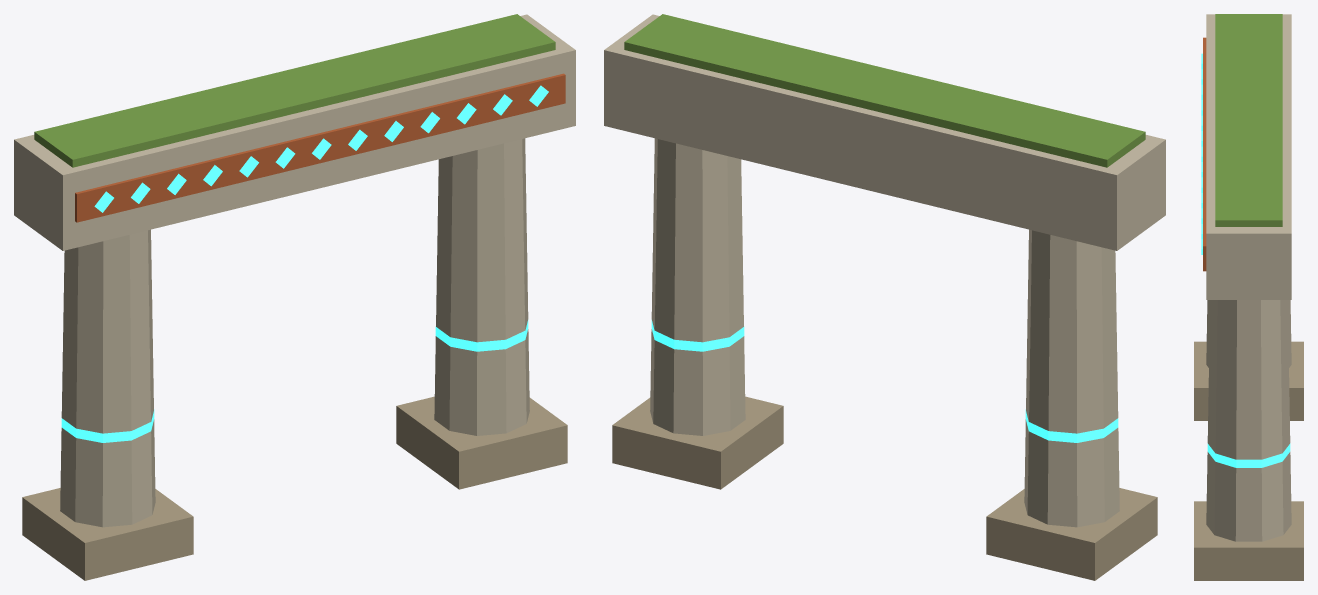
The model's file is gate.glb.
The picture shows the model from 3 angles, left to right: view 1: azimuth 30°, elevation 25°; view 2: azimuth 150°, elevation 25°; view 3: azimuth 270°, elevation 25°; orthographic projection. The views are drawn at different scales.
Visible parts, largest first — view 1: gate; view 2: gate; view 3: gate.
Boxes of the visible parts, x1,y1,x2,y2 form: gate: (14, 14, 575, 580); gate: (604, 14, 1165, 580); gate: (1194, 14, 1303, 580).
Size of the model in its own units: 17 by 13.05 by 3.6.
